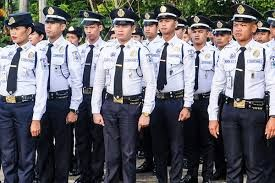uniform: (95, 37, 152, 178), (221, 39, 269, 175), (145, 34, 190, 167), (1, 45, 41, 175), (39, 36, 76, 170), (72, 33, 105, 173), (184, 40, 221, 164)
